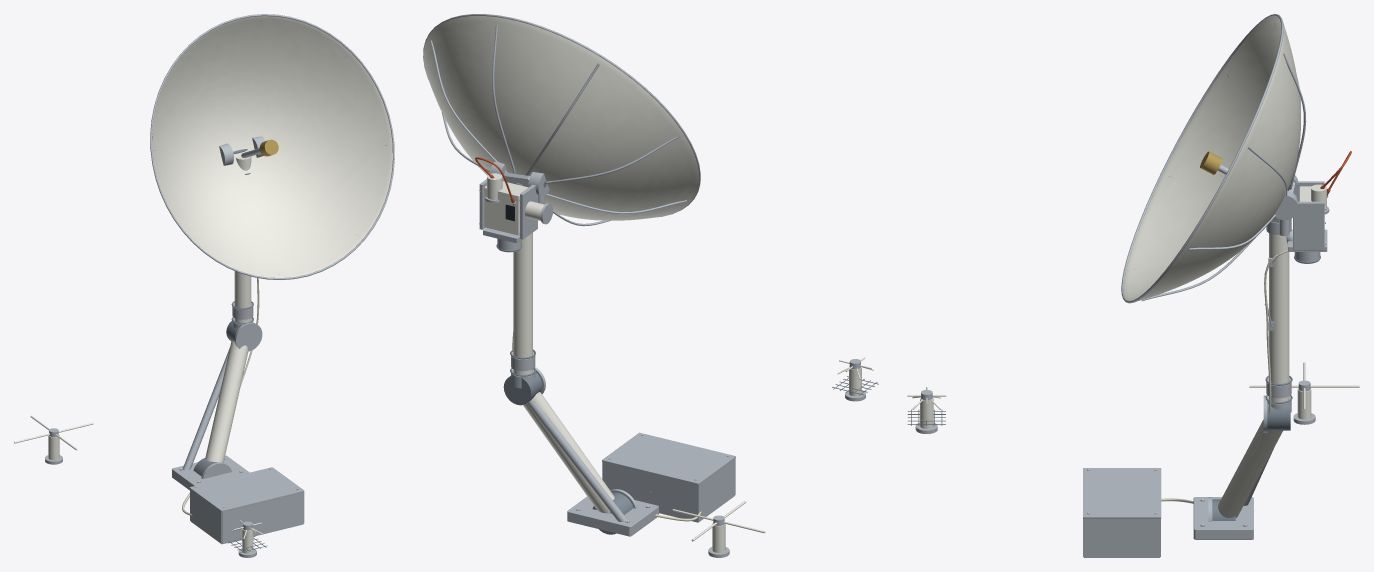
Rendered from viking-antenna.glb.
3 renders of one model, left to right at view 1: azimuth 30°, elevation 25°; view 2: azimuth 150°, elevation 25°; view 3: azimuth 270°, elevation 25°, orthographic. The views are drawn at different scales.
Parts seen in each view (by area): view 1: REFLECTOR_Viking_opaque_S-band_reflector, RADIO_CHASSIS_Machined_aluminium, RADIO_CHASSIS_COVER_Machined_aluminium, ANTENNA_GIMBAL_Viking_white_thermal_enamel, REFLECTOR_Machined_aluminium, ANTENNA_GIMBAL_Machined_aluminium, HGA_BASE_STAY_Machined_aluminium, HGA_5588MM_MAST_Viking_white_thermal_enamel, HGA_ELBOW_JOINT_Machined_aluminium, UHF_RELAY_Viking_white_thermal_enamel; view 2: REFLECTOR_Viking_opaque_S-band_reflector, RADIO_CHASSIS_Machined_aluminium, RADIO_CHASSIS_COVER_Machined_aluminium, REFLECTOR_Machined_aluminium, ANTENNA_GIMBAL_Machined_aluminium, HGA_5588MM_MAST_Viking_white_thermal_enamel, HGA_POINTING_HEAD_Viking_white_thermal_enamel, ANTENNA_GIMBAL_Viking_white_thermal_enamel, HGA_POINTING_HEAD_Machined_aluminium, HGA_BASE_STAY_Machined_aluminium, HGA_ELBOW_JOINT_Steel_fixings, UHF_RELAY_Viking_white_thermal_enamel; view 3: REFLECTOR_Viking_opaque_S-band_reflector, RADIO_CHASSIS_COVER_Machined_aluminium, REFLECTOR_Machined_aluminium, RADIO_CHASSIS_Machined_aluminium, HGA_5588MM_MAST_Viking_white_thermal_enamel, ANTENNA_GIMBAL_Machined_aluminium, ANTENNA_GIMBAL_Viking_white_thermal_enamel, HGA_POINTING_HEAD_Machined_aluminium, UHF_RELAY_Viking_white_thermal_enamel, HGA_5588MM_MAST_Machined_aluminium, HGA_ELBOW_JOINT_Steel_fixings, HGA_RETENTION_LOOM_White_cable_sleeve.
Boxes of the visible parts, bbox=[...] form: REFLECTOR_Viking_opaque_S-band_reflector: bbox=[152, 16, 392, 277]; RADIO_CHASSIS_Machined_aluminium: bbox=[190, 489, 304, 544]; RADIO_CHASSIS_COVER_Machined_aluminium: bbox=[189, 467, 304, 512]; ANTENNA_GIMBAL_Viking_white_thermal_enamel: bbox=[205, 340, 248, 462]; REFLECTOR_Machined_aluminium: bbox=[150, 14, 394, 279]; ANTENNA_GIMBAL_Machined_aluminium: bbox=[172, 136, 265, 490]; HGA_BASE_STAY_Machined_aluminium: bbox=[182, 348, 229, 470]; HGA_5588MM_MAST_Viking_white_thermal_enamel: bbox=[234, 156, 251, 322]; HGA_ELBOW_JOINT_Machined_aluminium: bbox=[234, 322, 262, 351]; UHF_RELAY_Viking_white_thermal_enamel: bbox=[14, 415, 93, 460]; REFLECTOR_Viking_opaque_S-band_reflector: bbox=[423, 16, 699, 220]; RADIO_CHASSIS_Machined_aluminium: bbox=[602, 458, 735, 522]; RADIO_CHASSIS_COVER_Machined_aluminium: bbox=[602, 432, 735, 485]; REFLECTOR_Machined_aluminium: bbox=[423, 14, 700, 226]; ANTENNA_GIMBAL_Machined_aluminium: bbox=[489, 161, 658, 536]; HGA_5588MM_MAST_Viking_white_thermal_enamel: bbox=[513, 183, 532, 374]; HGA_POINTING_HEAD_Viking_white_thermal_enamel: bbox=[484, 173, 544, 235]; ANTENNA_GIMBAL_Viking_white_thermal_enamel: bbox=[523, 392, 614, 513]; HGA_POINTING_HEAD_Machined_aluminium: bbox=[479, 179, 553, 252]; HGA_BASE_STAY_Machined_aluminium: bbox=[528, 401, 627, 521]; HGA_ELBOW_JOINT_Steel_fixings: bbox=[503, 372, 542, 405]; UHF_RELAY_Viking_white_thermal_enamel: bbox=[672, 501, 765, 552]; REFLECTOR_Viking_opaque_S-band_reflector: bbox=[1123, 16, 1300, 301]; RADIO_CHASSIS_COVER_Machined_aluminium: bbox=[1083, 468, 1161, 518]; REFLECTOR_Machined_aluminium: bbox=[1121, 14, 1306, 303]; RADIO_CHASSIS_Machined_aluminium: bbox=[1083, 519, 1160, 557]; HGA_5588MM_MAST_Viking_white_thermal_enamel: bbox=[1269, 220, 1289, 402]; ANTENNA_GIMBAL_Machined_aluminium: bbox=[1193, 175, 1298, 539]; ANTENNA_GIMBAL_Viking_white_thermal_enamel: bbox=[1218, 419, 1282, 517]; HGA_POINTING_HEAD_Machined_aluminium: bbox=[1288, 181, 1329, 263]; UHF_RELAY_Viking_white_thermal_enamel: bbox=[1249, 362, 1359, 419]; HGA_5588MM_MAST_Machined_aluminium: bbox=[1266, 219, 1291, 412]; HGA_ELBOW_JOINT_Steel_fixings: bbox=[1267, 402, 1290, 430]; HGA_RETENTION_LOOM_White_cable_sleeve: bbox=[1250, 250, 1287, 457].
Bounding box in the file's own units: 1.1 × 1.4 × 1.07.
